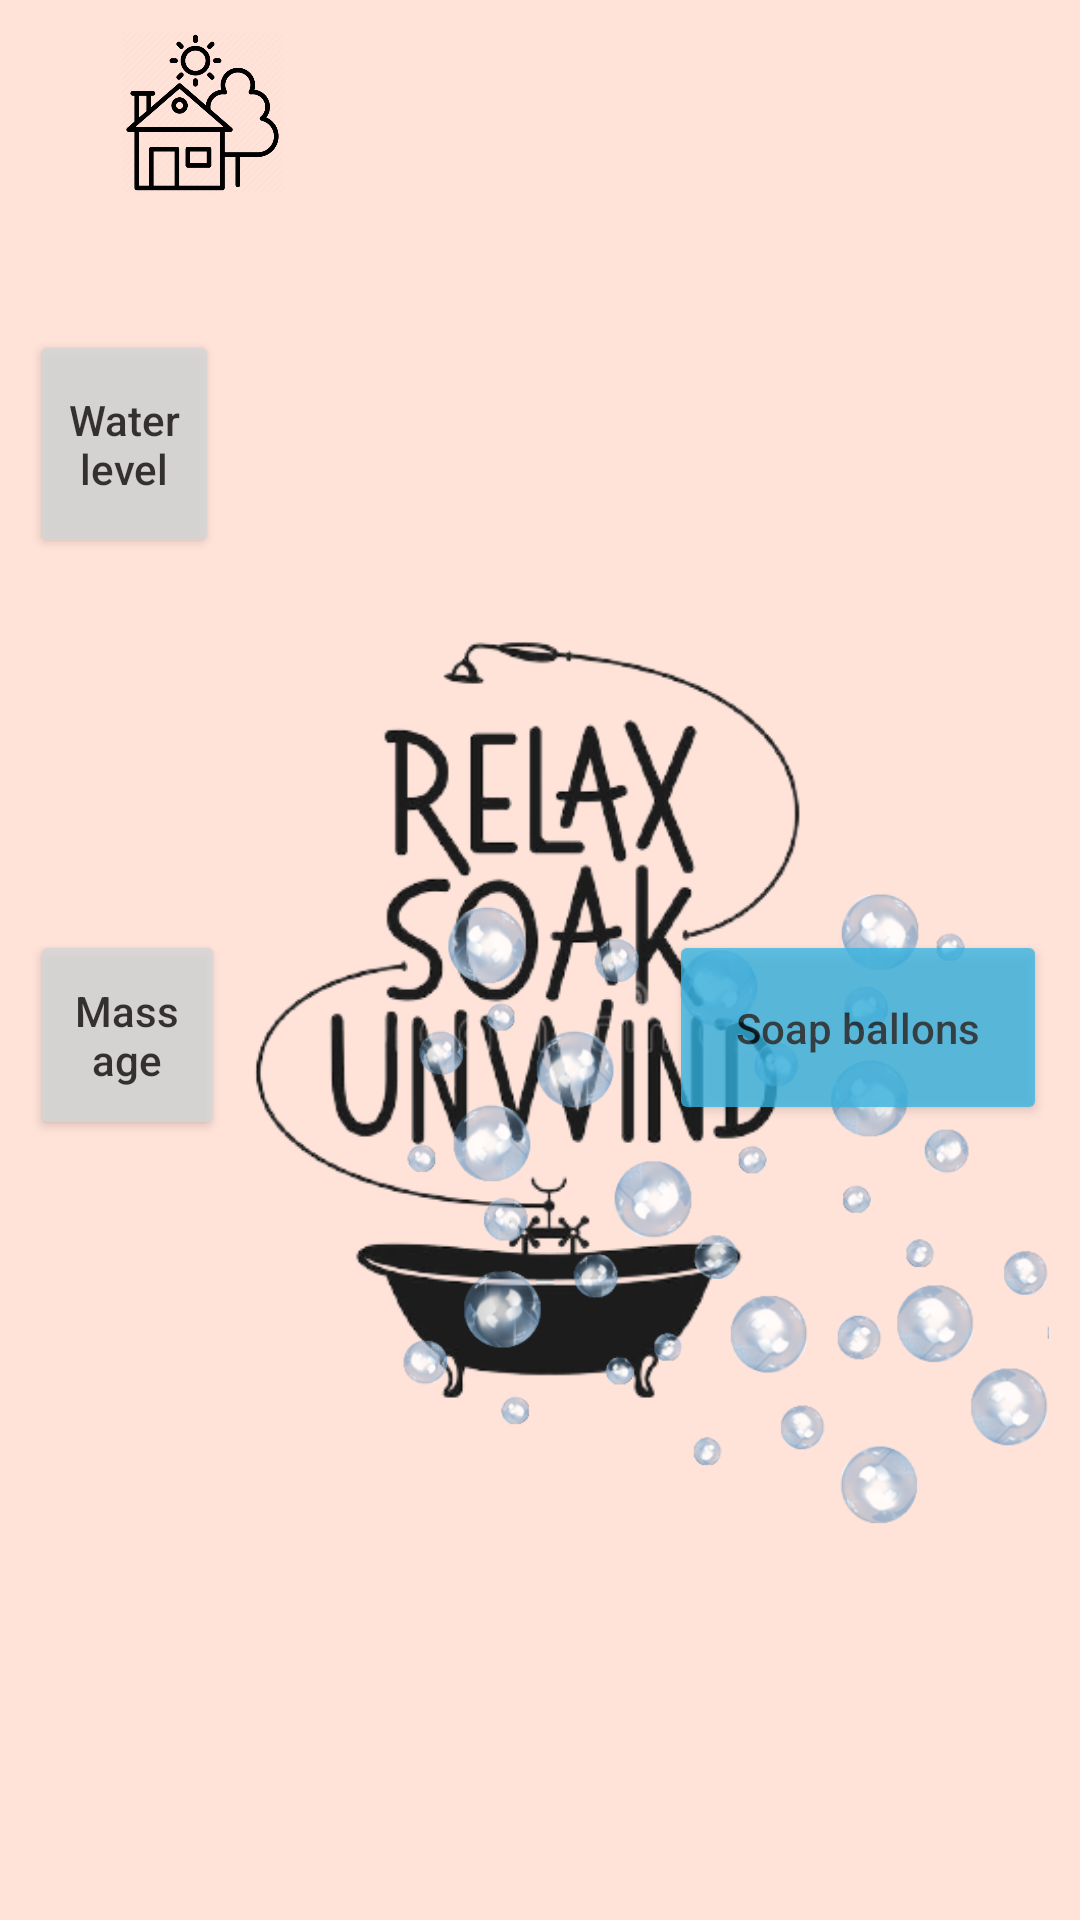

Where icons sit on this 1080×1920 app screen, as (x1,y1,x2,y2):
house: (126,34,279,191)
